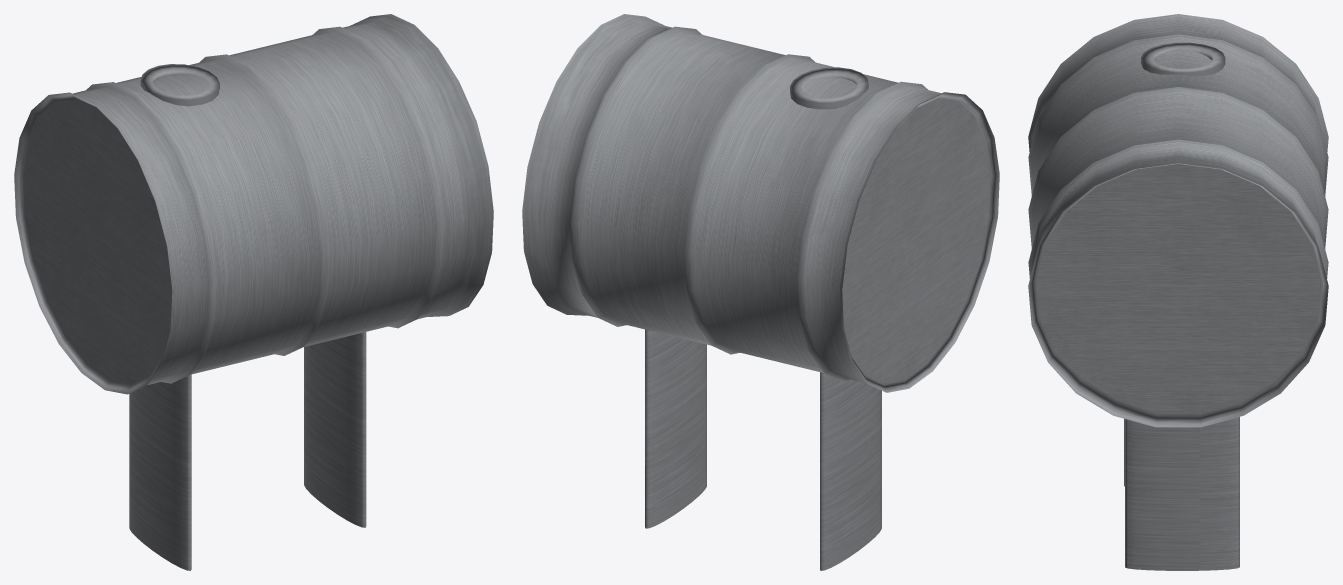
Rendered from vat1.fbx.
The picture shows the model from 3 angles, left to right: view 1: azimuth 30°, elevation 25°; view 2: azimuth 150°, elevation 25°; view 3: azimuth 270°, elevation 25°; orthographic projection. The views are drawn at different scales.
Parts seen in each view (by area): view 1: barrel_01:barel_, pasted__pCylinder1, pCylinder1, barrel_02:Tube02; view 2: barrel_01:barel_, pasted__pCylinder1, pCylinder1, barrel_02:Tube02; view 3: barrel_01:barel_, pasted__pCylinder1, barrel_02:Tube02.
Boxes of the visible parts, left/top/right/bottom form: barrel_01:barel_: left=14, top=14, right=493, bottom=394; pasted__pCylinder1: left=304, top=332, right=366, bottom=527; pCylinder1: left=129, top=374, right=191, bottom=570; barrel_02:Tube02: left=140, top=64, right=219, bottom=106; barrel_01:barel_: left=522, top=14, right=999, bottom=392; pasted__pCylinder1: left=645, top=329, right=706, bottom=528; pCylinder1: left=820, top=372, right=881, bottom=570; barrel_02:Tube02: left=790, top=67, right=868, bottom=109; barrel_01:barel_: left=1028, top=14, right=1328, bottom=427; pasted__pCylinder1: left=1125, top=417, right=1239, bottom=570; barrel_02:Tube02: left=1141, top=42, right=1225, bottom=75.
Bounding box in the file's own units: 360 × 496 × 307.
